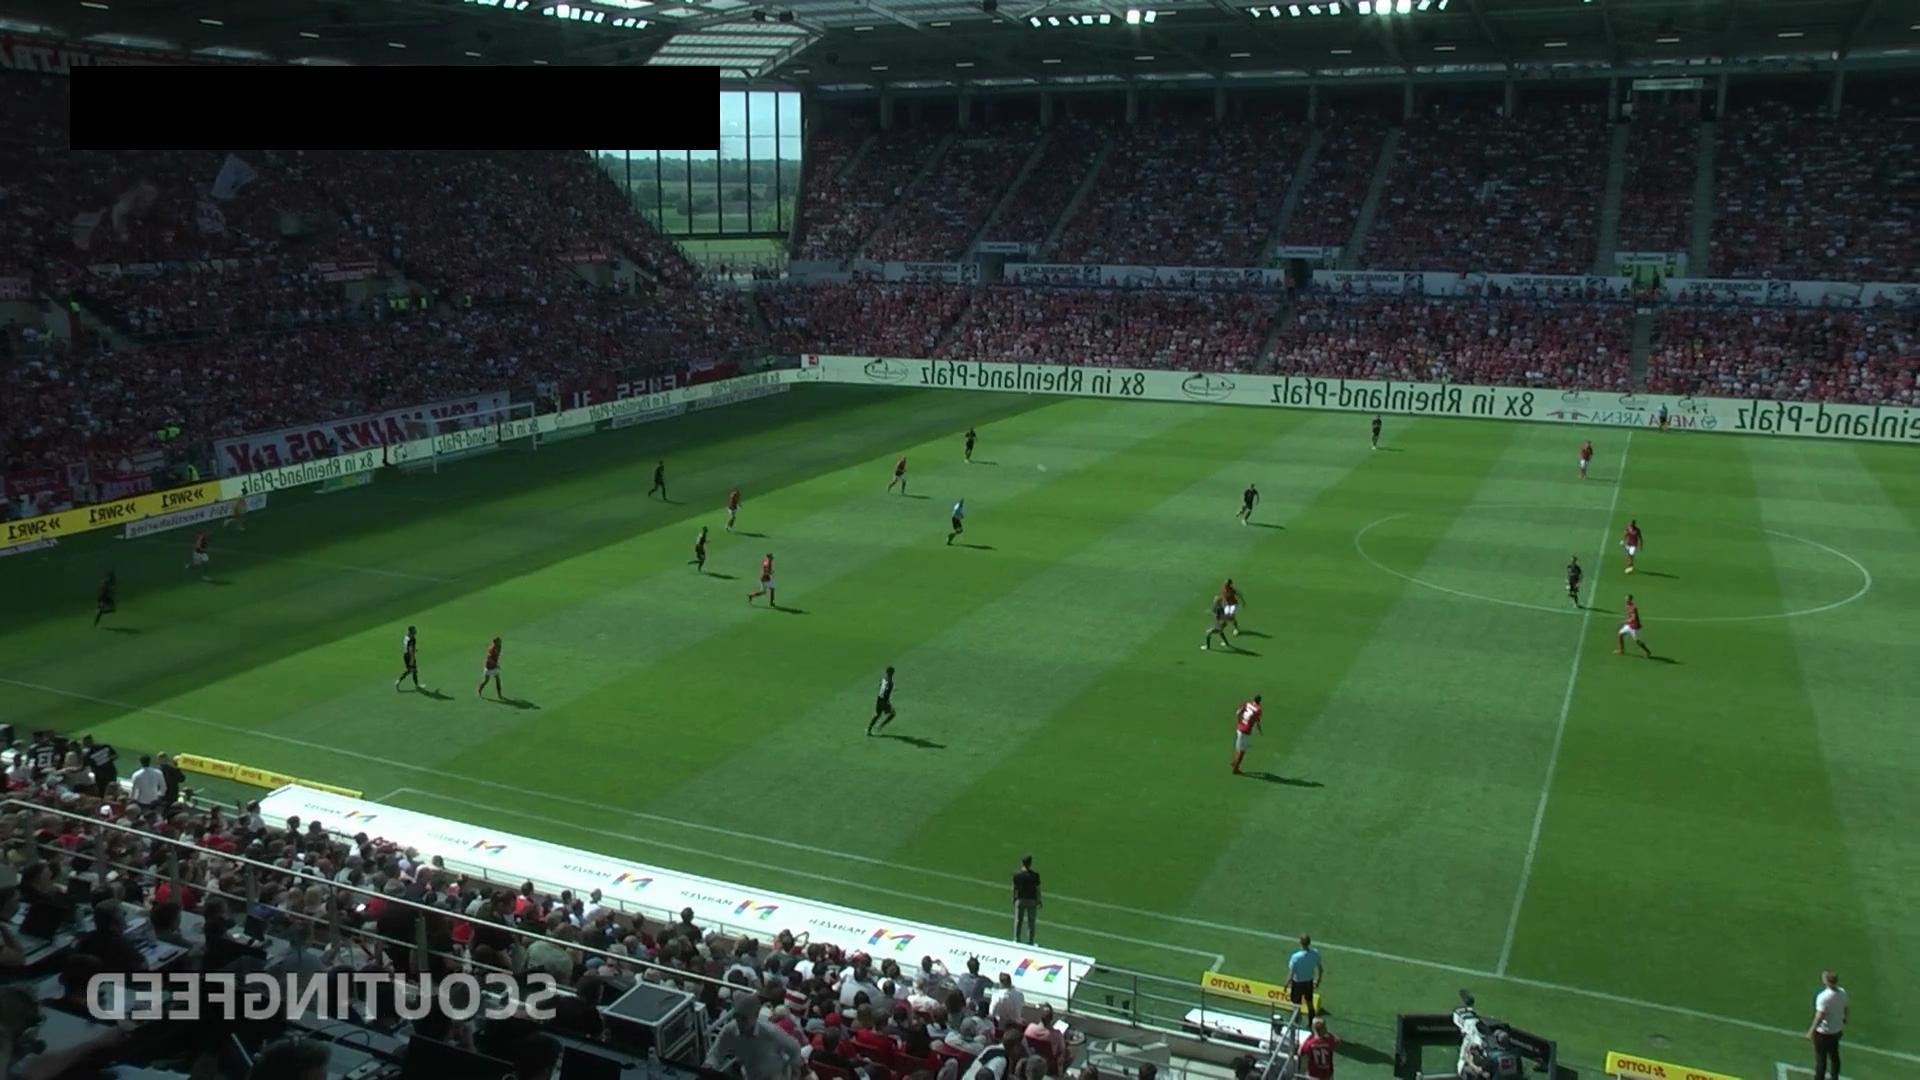ball: (1035, 461, 1048, 475)
goalkeeper: (221, 486, 250, 532)
player: (1611, 593, 1653, 659), (1230, 694, 1264, 774), (865, 665, 897, 737), (395, 625, 424, 693), (477, 636, 505, 700), (1201, 596, 1232, 650), (748, 552, 777, 607), (1220, 578, 1246, 637), (184, 529, 213, 581), (92, 570, 117, 628), (1619, 519, 1642, 574), (684, 525, 709, 573), (1565, 556, 1584, 610), (1236, 483, 1259, 525), (647, 459, 669, 501), (887, 455, 909, 495), (725, 488, 742, 530), (1578, 440, 1594, 479), (963, 428, 977, 462), (1371, 416, 1382, 449)
referee: (946, 498, 966, 546), (1654, 398, 1672, 435)
